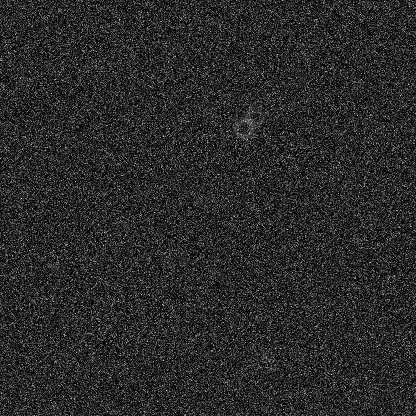Ring: (163, 247, 187, 271), (242, 104, 266, 128), (231, 116, 255, 140), (124, 316, 148, 340)
Spot: (90, 253, 106, 269), (14, 228, 30, 244), (256, 346, 272, 362), (193, 193, 209, 209), (58, 354, 74, 370), (257, 310, 273, 326)
